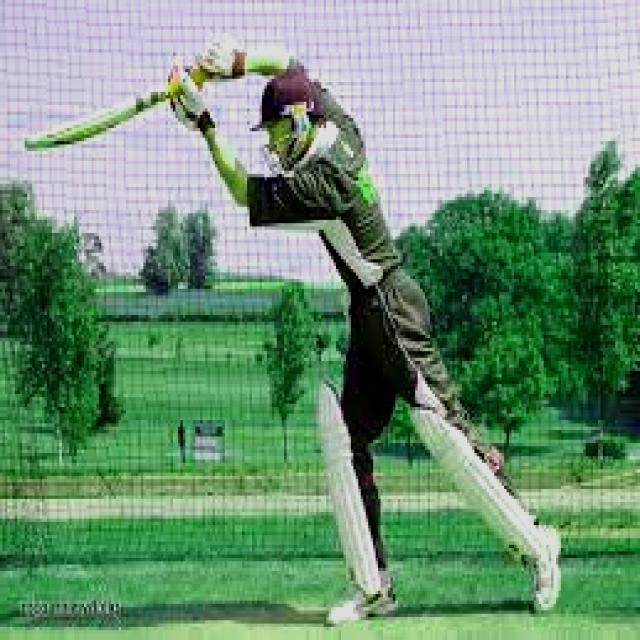bat: (18, 88, 169, 162)
